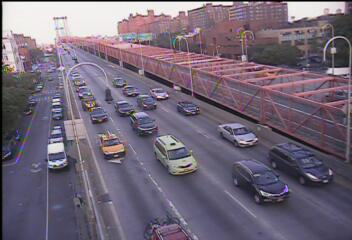neg: (19, 98, 33, 117)
pos: (10, 127, 25, 147)
